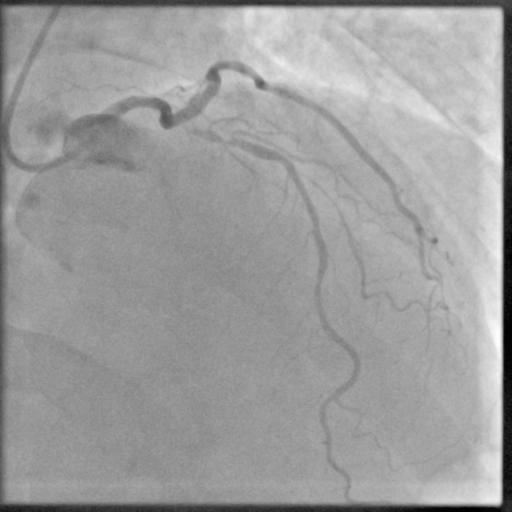Stenosis: (185, 120, 240, 144)
